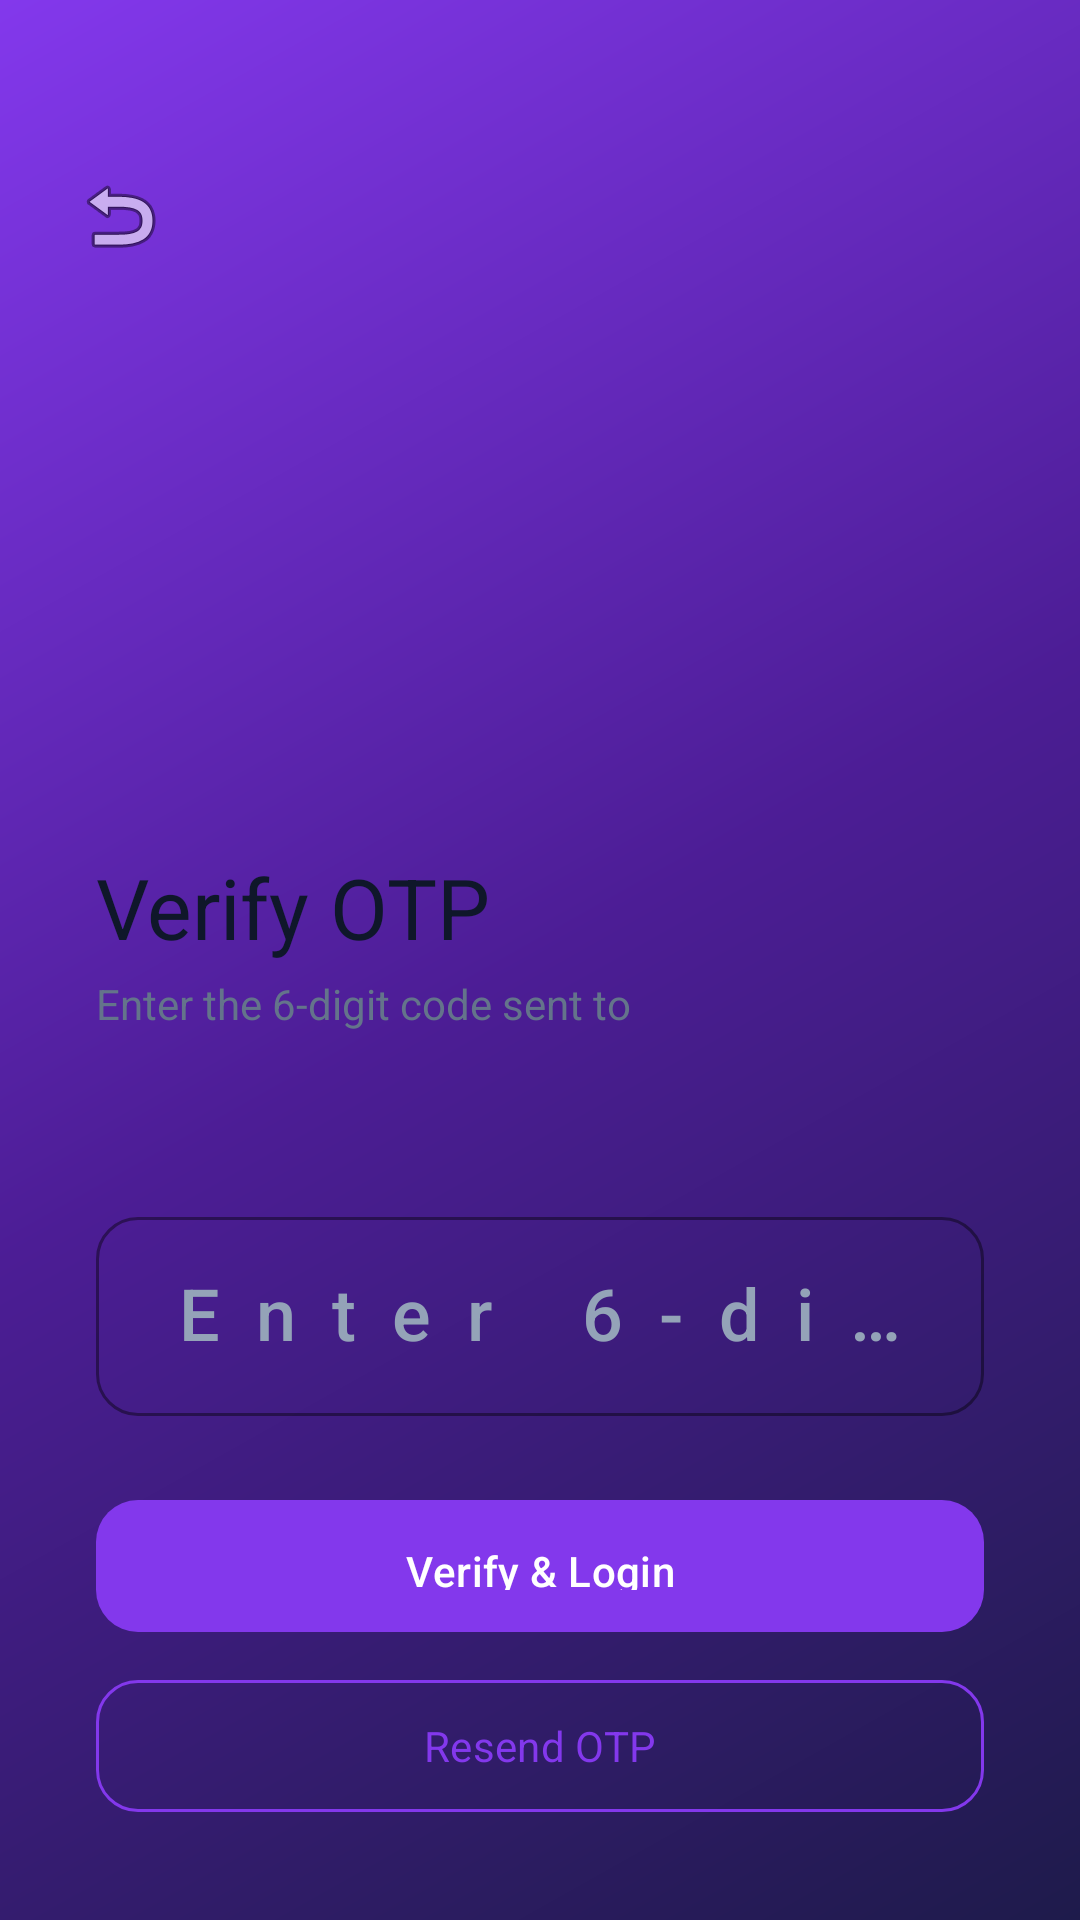

Point at icon controls on the screen. Image size 1080w x 1920h, points as (x=x, y=y).
Back: (x=121, y=216)
